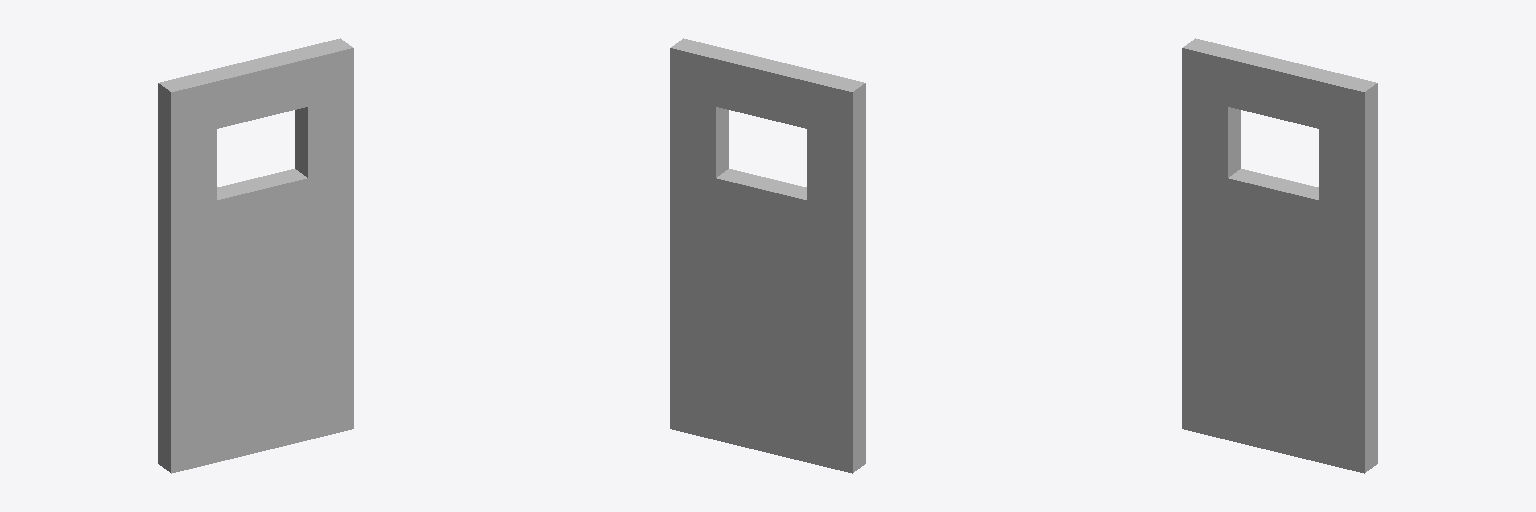
File: porta.obj
3 renders of one model, left to right at view 1: azimuth 30°, elevation 25°; view 2: azimuth 150°, elevation 25°; view 3: azimuth 330°, elevation 25°, orthographic.
Visible parts, largest first — view 1: Cube.191, Cube.148, Cube.150, Cube.151, Cube.154, Cube.156, Cube.157, Cube.160, Cube.159, Cube.166, Cube.168, Cube.098 (+28 smaller); view 2: Cube.191, Cube.148, Cube.150, Cube.151, Cube.154, Cube.156, Cube.157, Cube.160, Cube.159, Cube.166, Cube.168, Cube.098 (+28 smaller); view 3: Cube.184, Cube.086, Cube.088, Cube.089, Cube.092, Cube.094, Cube.095, Cube.167, Cube.091, Cube.161, Cube.175, Cube.096 (+28 smaller).
Boxes of the visible parts, x1=… form: Cube.191: x1=158, y1=77, x2=193, y2=115; Cube.148: x1=158, y1=297, x2=193, y2=330; Cube.150: x1=158, y1=250, x2=193, y2=282; Cube.151: x1=158, y1=226, x2=193, y2=258; Cube.154: x1=158, y1=321, x2=193, y2=354; Cube.156: x1=158, y1=369, x2=193, y2=401; Cube.157: x1=158, y1=393, x2=193, y2=425; Cube.160: x1=158, y1=154, x2=193, y2=187; Cube.159: x1=158, y1=440, x2=193, y2=473; Cube.166: x1=295, y1=121, x2=330, y2=153; Cube.168: x1=158, y1=131, x2=193, y2=163; Cube.098: x1=295, y1=145, x2=330, y2=177; Cube.191: x1=830, y1=77, x2=865, y2=115; Cube.148: x1=830, y1=297, x2=865, y2=330; Cube.150: x1=830, y1=250, x2=865, y2=282; Cube.151: x1=830, y1=226, x2=865, y2=258; Cube.154: x1=830, y1=321, x2=865, y2=354; Cube.156: x1=830, y1=369, x2=865, y2=401; Cube.157: x1=830, y1=393, x2=865, y2=425; Cube.160: x1=830, y1=154, x2=865, y2=187; Cube.159: x1=830, y1=440, x2=865, y2=473; Cube.166: x1=693, y1=121, x2=728, y2=153; Cube.168: x1=830, y1=131, x2=865, y2=163; Cube.098: x1=693, y1=145, x2=728, y2=177; Cube.184: x1=1342, y1=77, x2=1377, y2=115; Cube.086: x1=1342, y1=321, x2=1377, y2=354; Cube.088: x1=1342, y1=369, x2=1377, y2=401; Cube.089: x1=1342, y1=393, x2=1377, y2=425; Cube.092: x1=1342, y1=297, x2=1377, y2=330; Cube.094: x1=1342, y1=250, x2=1377, y2=282; Cube.095: x1=1342, y1=226, x2=1377, y2=258; Cube.167: x1=1342, y1=154, x2=1377, y2=187; Cube.091: x1=1342, y1=440, x2=1377, y2=473; Cube.161: x1=1205, y1=121, x2=1240, y2=153; Cube.175: x1=1342, y1=131, x2=1377, y2=163; Cube.096: x1=1342, y1=202, x2=1377, y2=234.
Bounding box in the file's own units: 16 × 32 × 2.